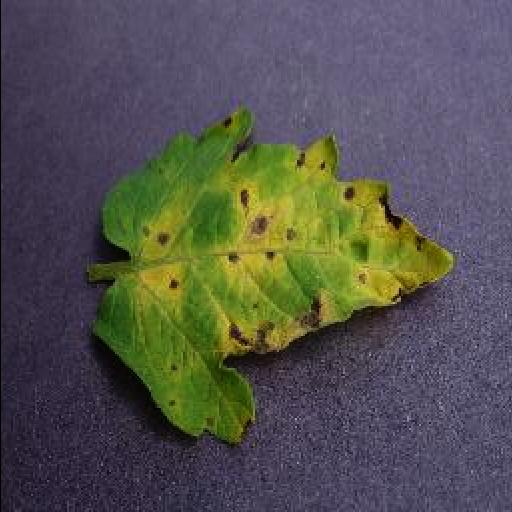disease_tomato: (90, 112, 458, 446)
